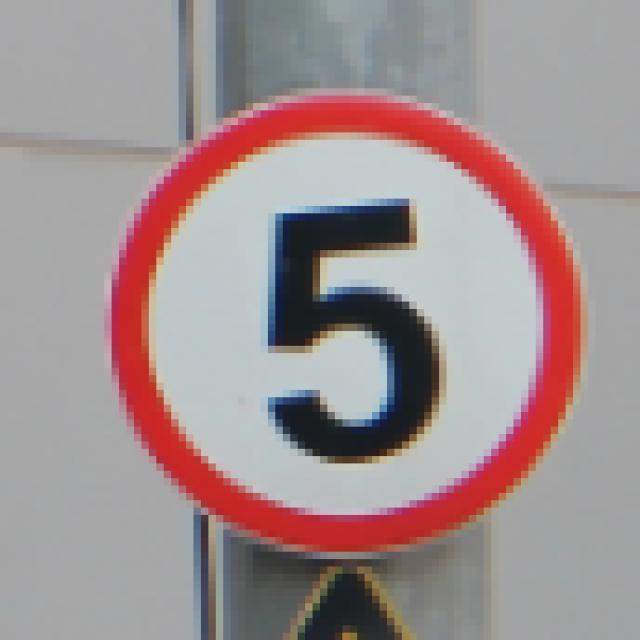speed limit 10: (107, 86, 587, 559)
